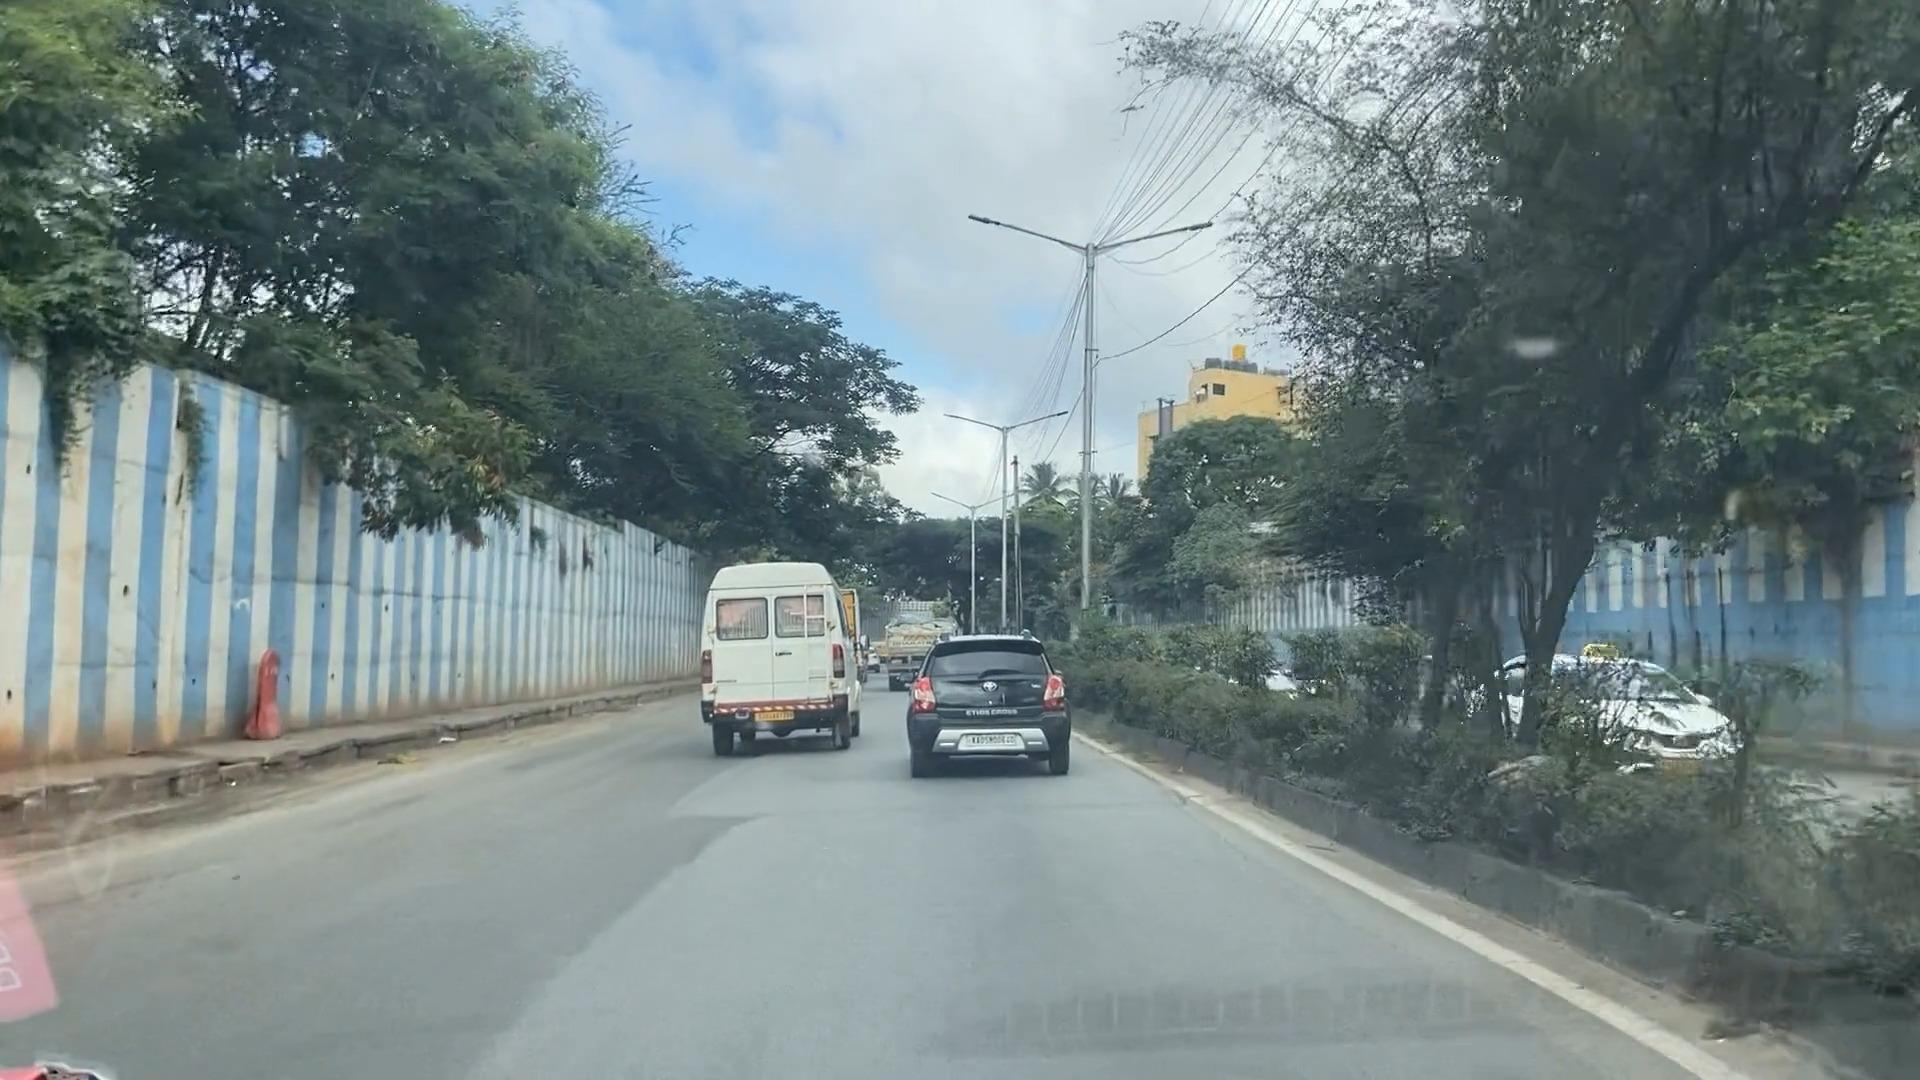HMV: (699, 567, 840, 735)
LMV: (903, 645, 1060, 771)
UnsurfacedRoad: (467, 819, 727, 1014)
